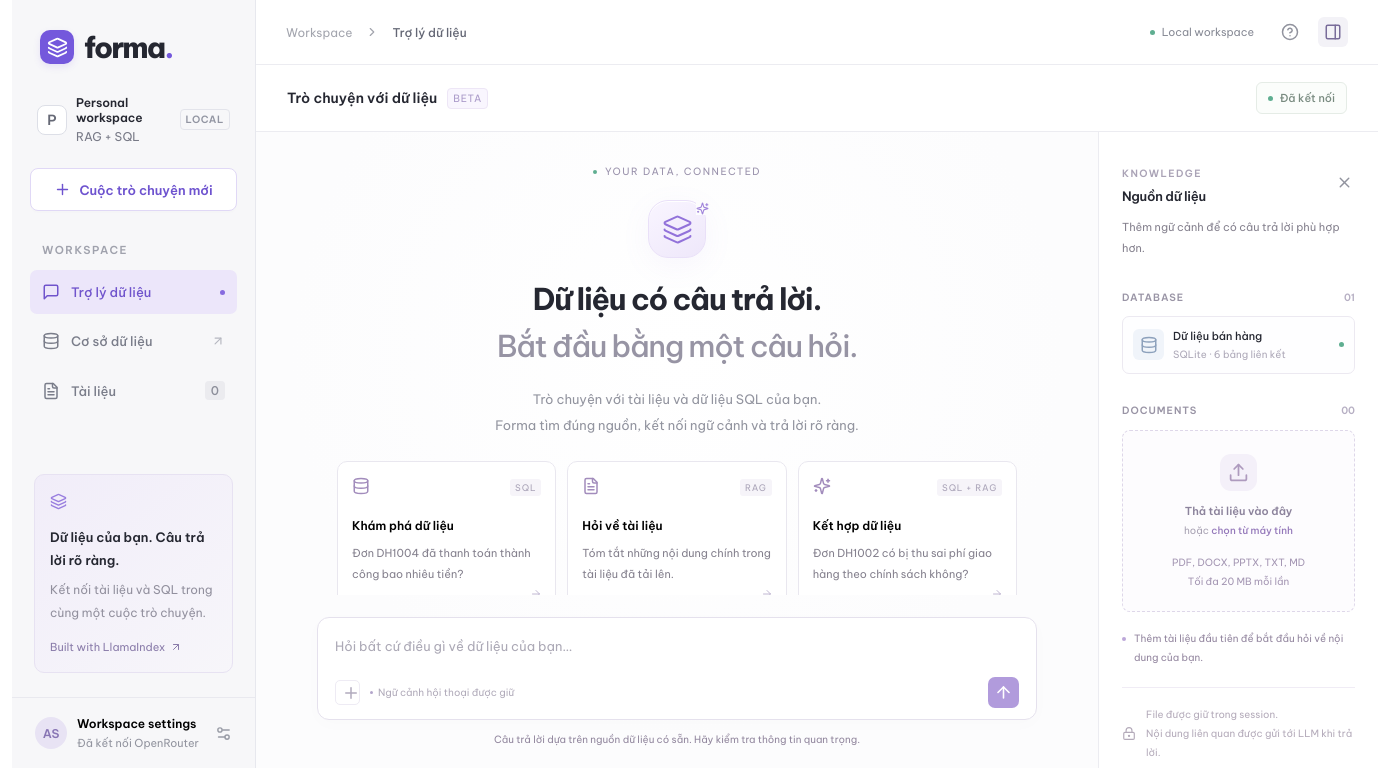
Test: Workspace interactions › displays the final answer, preserves follow-up turns and exposes tool details
This screenshot has width=1378, height=768.
Check: the button "Đã kết nối" is shown, box [1256,82,1347,114]
Type "Dân số Chicago?" into the text box named "Câu hỏi của bạn".
click(677, 650); type("Dân số Chicago?")  # box [335,635,1019,666]
Then press Enter
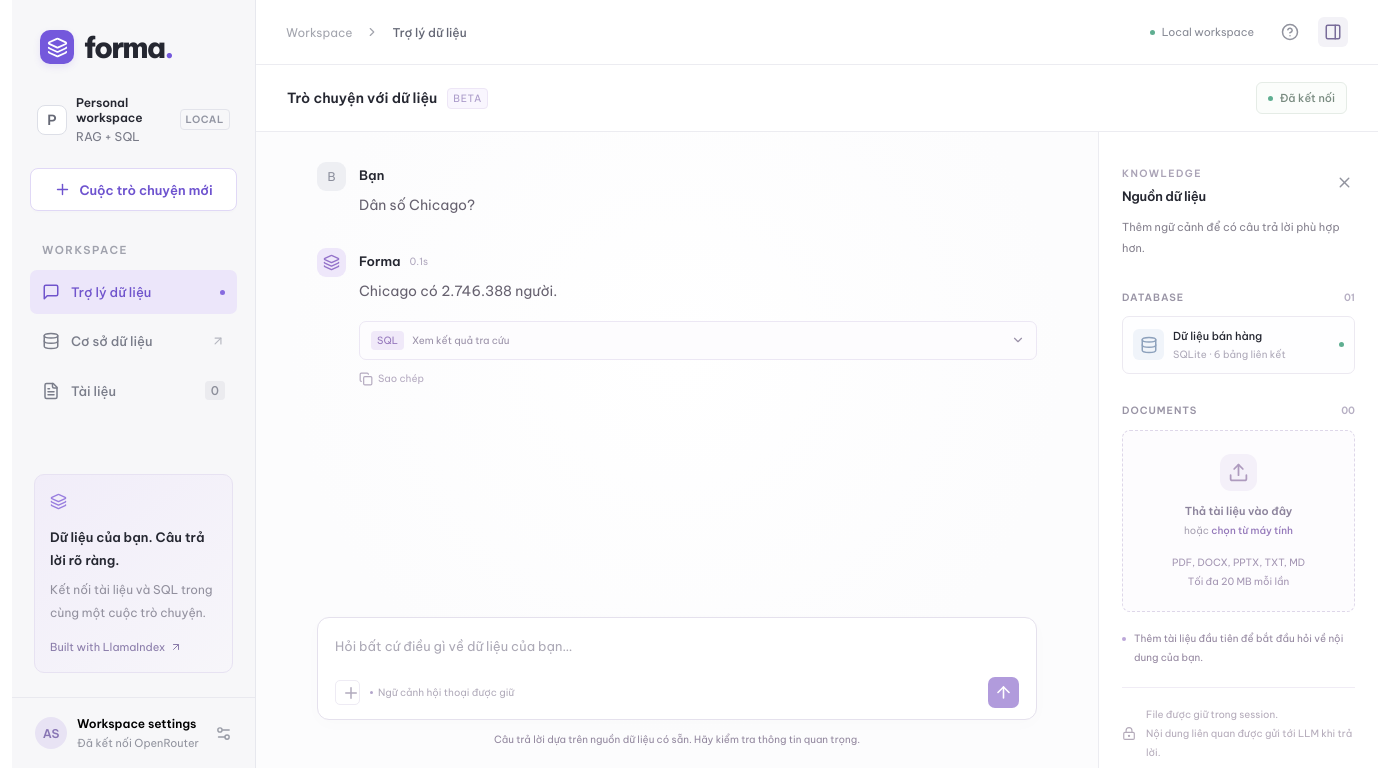
Check: the text "Chicago có 2.746.388 người." is shown, box [359,282,557,300]
Type "Thành phố đó thuộc bang nào?" into the text box named "Câu hỏi của bạn".
click(677, 650); type("Thành phố đó thuộc bang nào?")  # box [335,635,1019,666]
Then press Enter
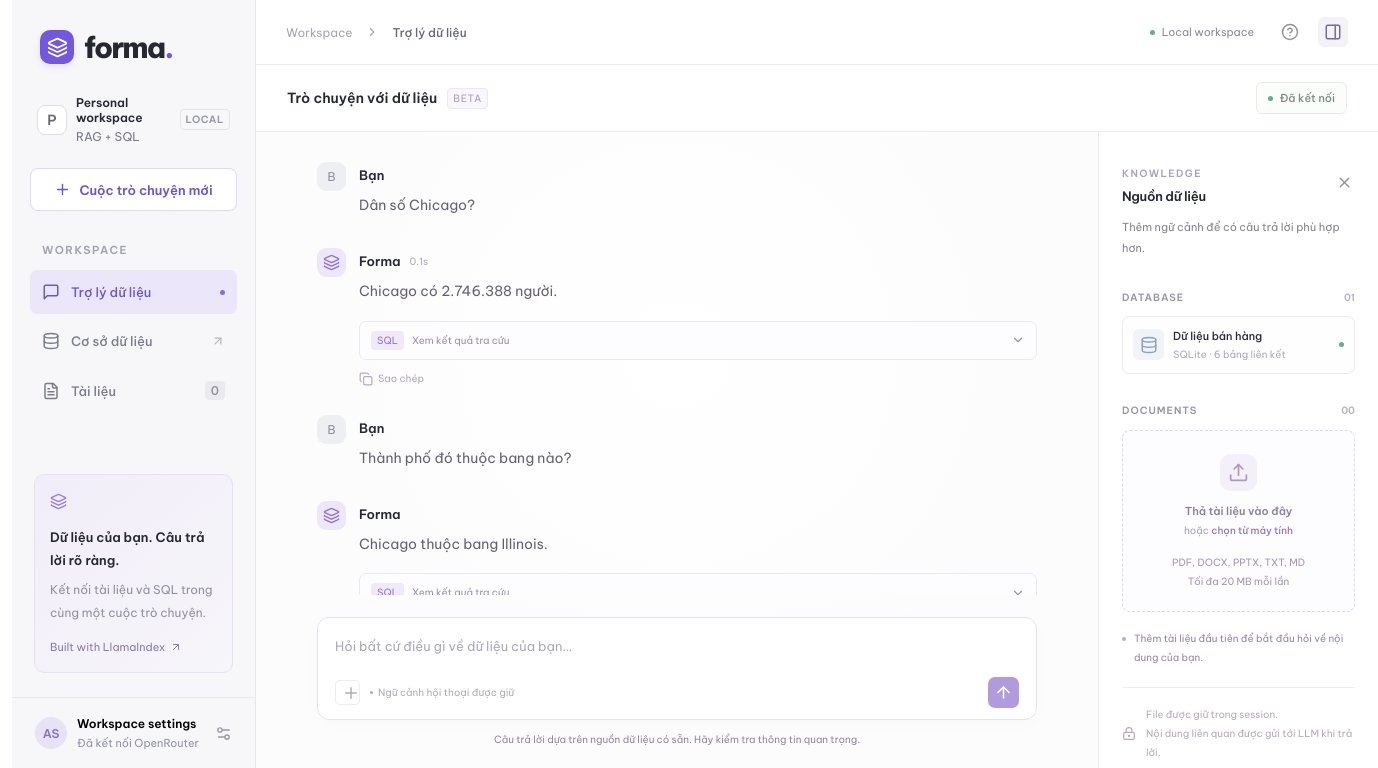
Check: the text "Chicago có 2.746.388 người." is shown, box [359,282,557,300]
Check: the text "Chicago thuộc bang Illinois." is shown, box [359,535,548,553]
Click the text "Xem kết quả tra cứu" below "Chicago có 2.746.388 người.".
click(461, 340)  # box [412,334,510,347]
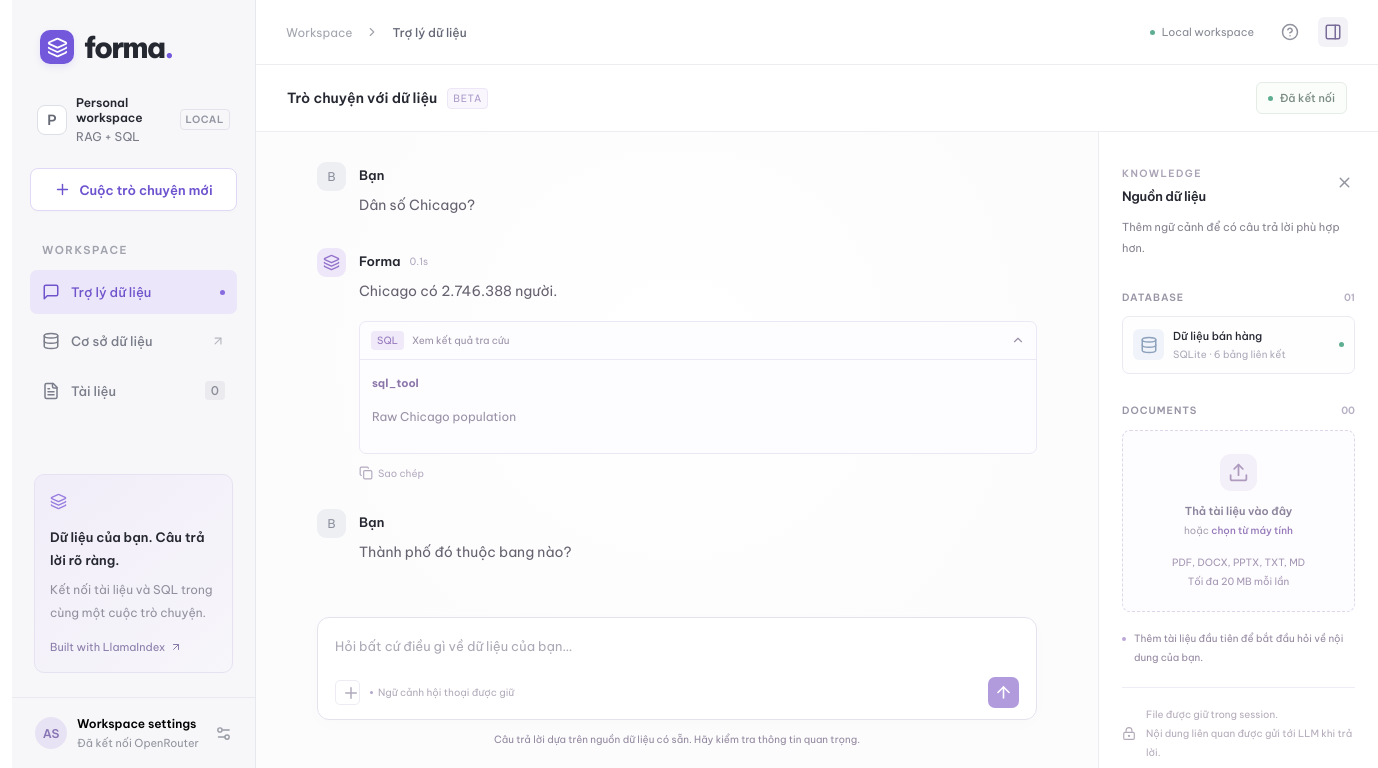
Check: the text "Raw Chicago population" is shown, box [372,409,516,424]
